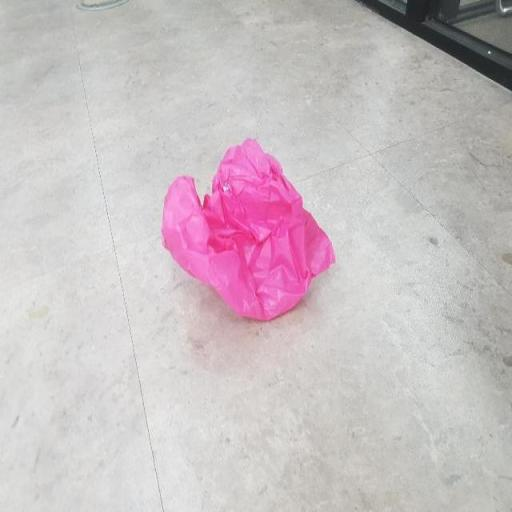plastic-bag: (157, 134, 337, 324)
